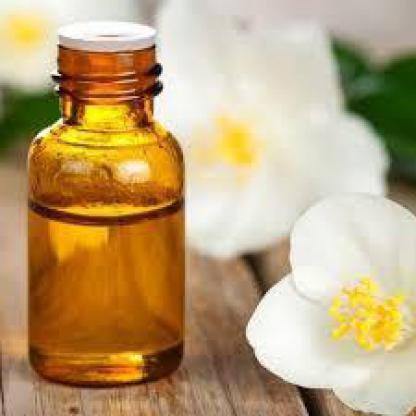Melati: (95, 22, 369, 231), (271, 177, 415, 406)
